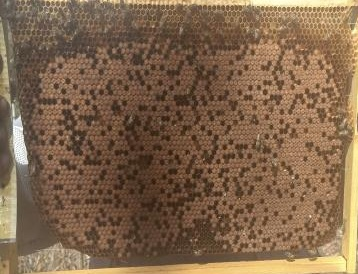cria: (23, 35, 345, 260)
